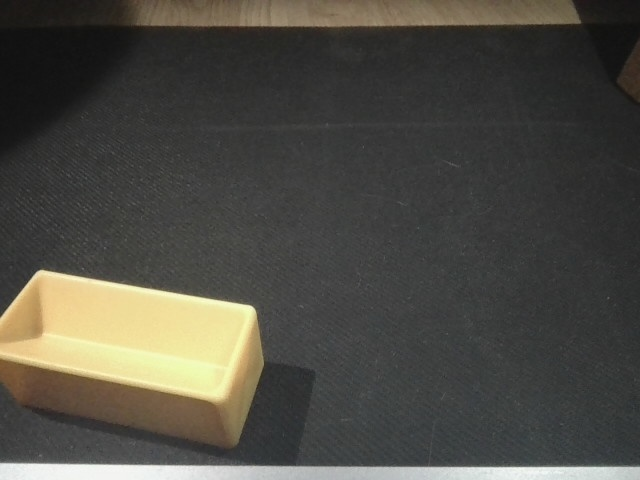YellowSample: (1, 266, 269, 458)
